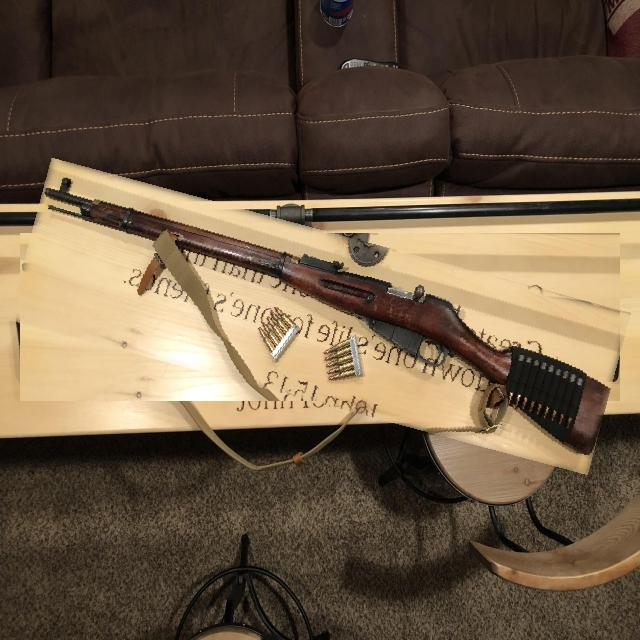gun: (14, 196, 626, 438)
